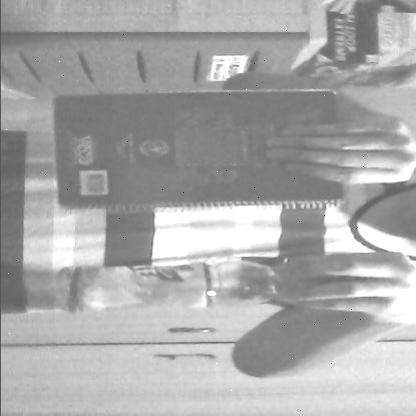Plastic Bottle: (41, 254, 323, 321)
